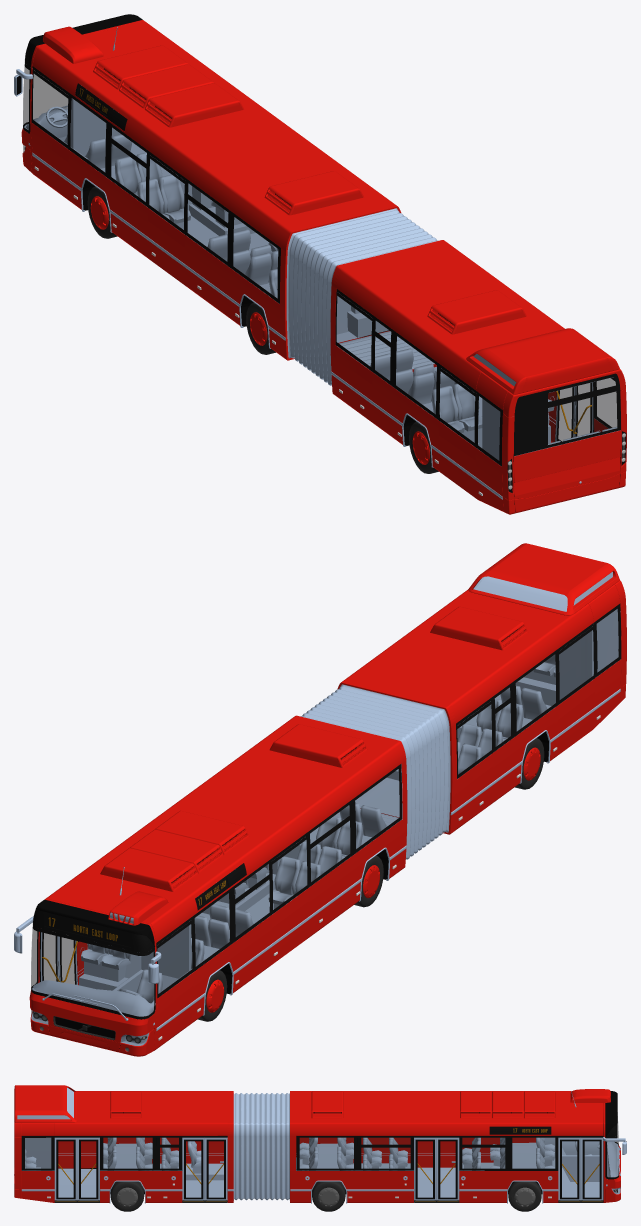
File: metrobus.FBX
3 views of the same model, one above another, from view 1: azimuth 30°, elevation 25°; view 2: azimuth 150°, elevation 25°; view 3: azimuth 270°, elevation 25° (orthographic). The views are drawn at different scales.
Visible parts, largest first — view 1: Archmodel0, Archmodel1, Archmode10, Archmode12, Archmodel2, Archmodels, Archmodel7; view 2: Archmodel0, Archmodel1, Archmode10, Archmode12, Archmodel2, Archmodel7, Archmodels, Archmodel8; view 3: Archmodel0, Archmodel1, Archmode10, Archmode12, Archmodel2, Archmodels, Archmodel7, Archmodel6, Archmodel8.
Boxes of the visible parts, <box> form: Archmodel0: <box>21,20,626,514</box>; Archmodel1: <box>23,46,620,466</box>; Archmode10: <box>24,98,618,466</box>; Archmode12: <box>28,143,600,499</box>; Archmodel2: <box>23,46,625,511</box>; Archmodels: <box>87,186,438,473</box>; Archmodel7: <box>14,14,142,110</box>; Archmodel0: <box>29,543,626,1056</box>; Archmodel1: <box>31,604,620,1018</box>; Archmode10: <box>32,609,620,1042</box>; Archmode12: <box>40,572,620,1039</box>; Archmodel2: <box>31,603,621,1048</box>; Archmodel7: <box>14,867,161,1020</box>; Archmodels: <box>197,738,544,1021</box>; Archmodel8: <box>44,878,227,946</box>; Archmodel0: <box>14,1085,620,1206</box>; Archmodel1: <box>22,1116,618,1198</box>; Archmode10: <box>22,1137,618,1197</box>; Archmode12: <box>14,1087,607,1203</box>; Archmodel2: <box>21,1112,618,1201</box>; Archmodels: <box>110,1181,541,1211</box>; Archmodel7: <box>571,1091,626,1175</box>; Archmodel6: <box>54,1188,617,1202</box>; Archmodel8: <box>511,1127,549,1133</box>.
Size of the model in its own units: 293 by 345 by 1830.
